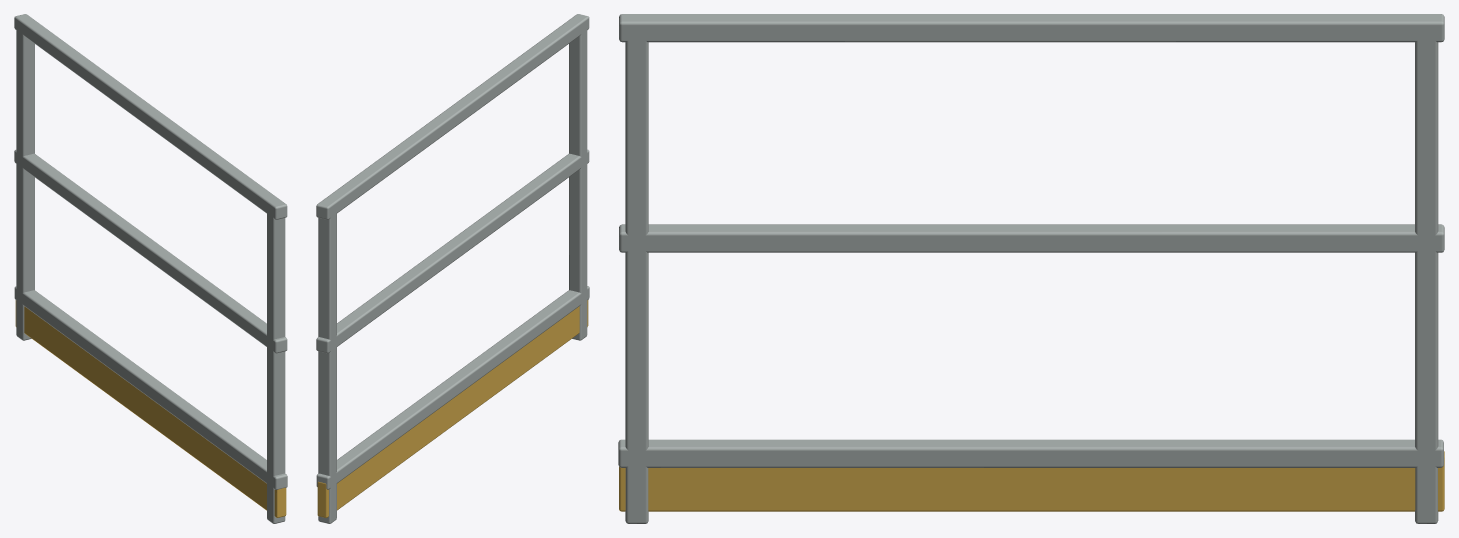
Rendered from automated-parking-and-vehicle-retrieval-automated-park-a3075bd0__30370.glb.
The picture shows the model from 3 angles, left to right: view 1: azimuth 30°, elevation 25°; view 2: azimuth 150°, elevation 25°; view 3: azimuth 270°, elevation 25°; orthographic projection. The views are drawn at different scales.
Parts seen in each view (by area): view 1: automated-parking-and-vehicle-retrieval-catwalk-railing-stra (×2); view 2: automated-parking-and-vehicle-retrieval-catwalk-railing-stra (×2); view 3: automated-parking-and-vehicle-retrieval-catwalk-railing-stra (×2).
Part boxes in pixels (box(x1,y1,x2,y2)): automated-parking-and-vehicle-retrieval-catwalk-railing-stra (×2): box(14, 14, 287, 523); automated-parking-and-vehicle-retrieval-catwalk-railing-stra (×2): box(316, 14, 589, 523); automated-parking-and-vehicle-retrieval-catwalk-railing-stra (×2): box(618, 14, 1444, 523).
Bounding box in the file's own units: 0.045 × 1.07 × 1.6.
